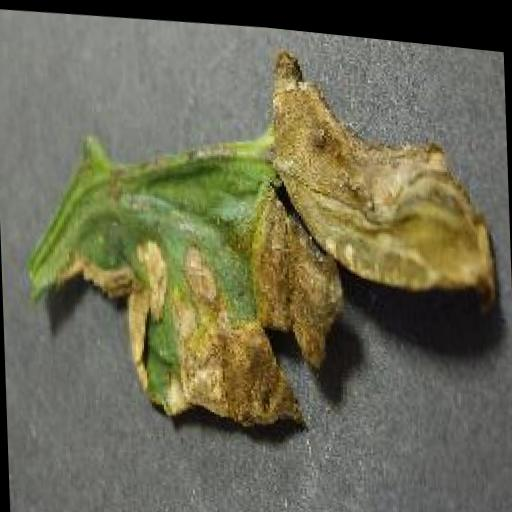Bacterial Spot: (11, 9, 511, 467)
